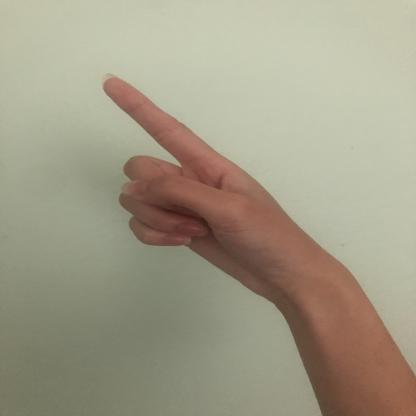finger_point: (96, 66, 233, 182)
